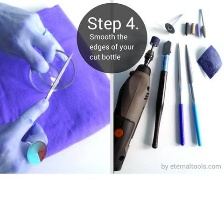glass: (22, 42, 80, 99)
